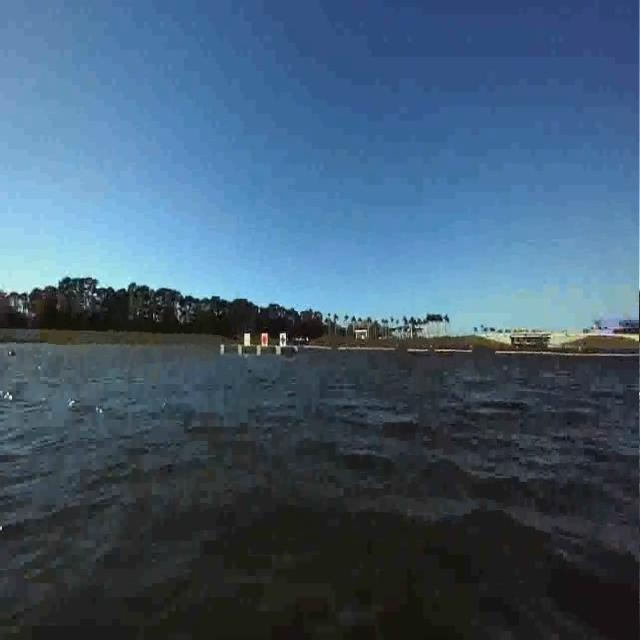black-buoy: (8, 348, 16, 357)
